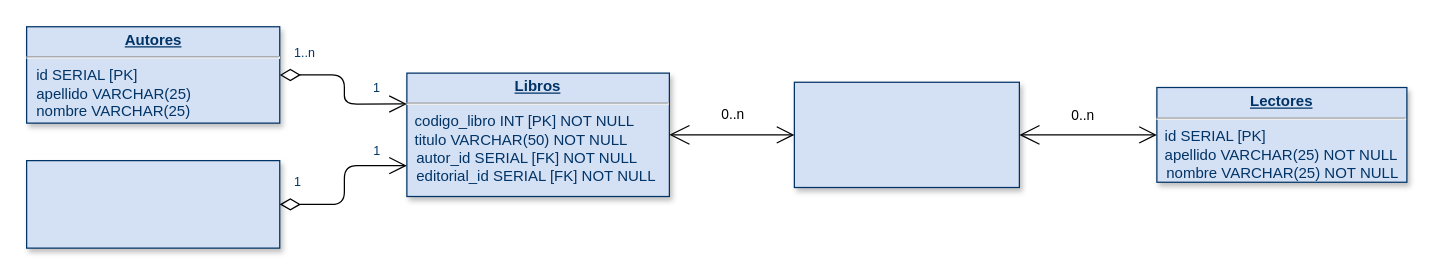
This 1438x280 diagram has some shape labels left out. The centre of each missing label's shape, as x and y in pixels:
"Editoriales id SERIAL [PK] nombre VARCHAR(25)" goes at [153,205].
"Prestamos libro_id INT [FK] lector_id SERIAL [FK] fecha_devolucion" goes at [907,136].
